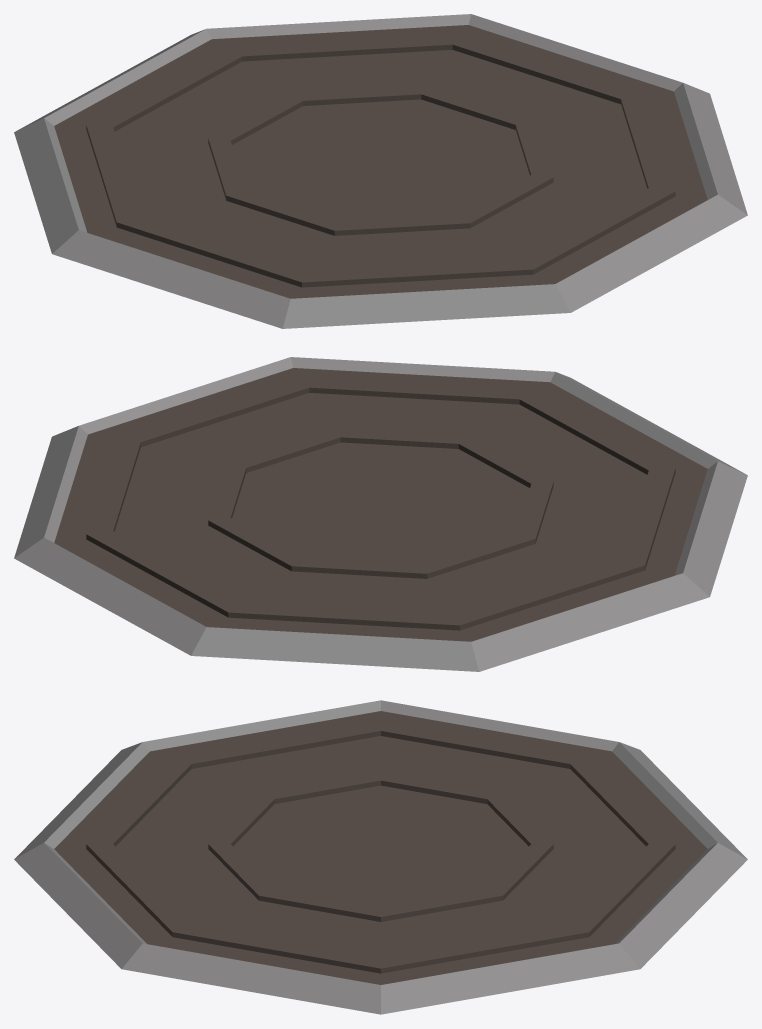
Rendered from manhole-cover.glb.
3 renders of one model, top to bottom at view 1: azimuth 30°, elevation 25°; view 2: azimuth 150°, elevation 25°; view 3: azimuth 270°, elevation 25°, orthographic. The views are drawn at different scales.
Parts seen in each view (by area): view 1: ManholeCover; view 2: ManholeCover; view 3: ManholeCover.
Boxes of the visible parts, left/top/right/bottom form: ManholeCover: left=14, top=14, right=747, bottom=328; ManholeCover: left=14, top=357, right=747, bottom=671; ManholeCover: left=14, top=700, right=747, bottom=1014.
Bounding box in the file's own units: 0.72 × 0.0183 × 0.72.
1 material, 1 textured.
